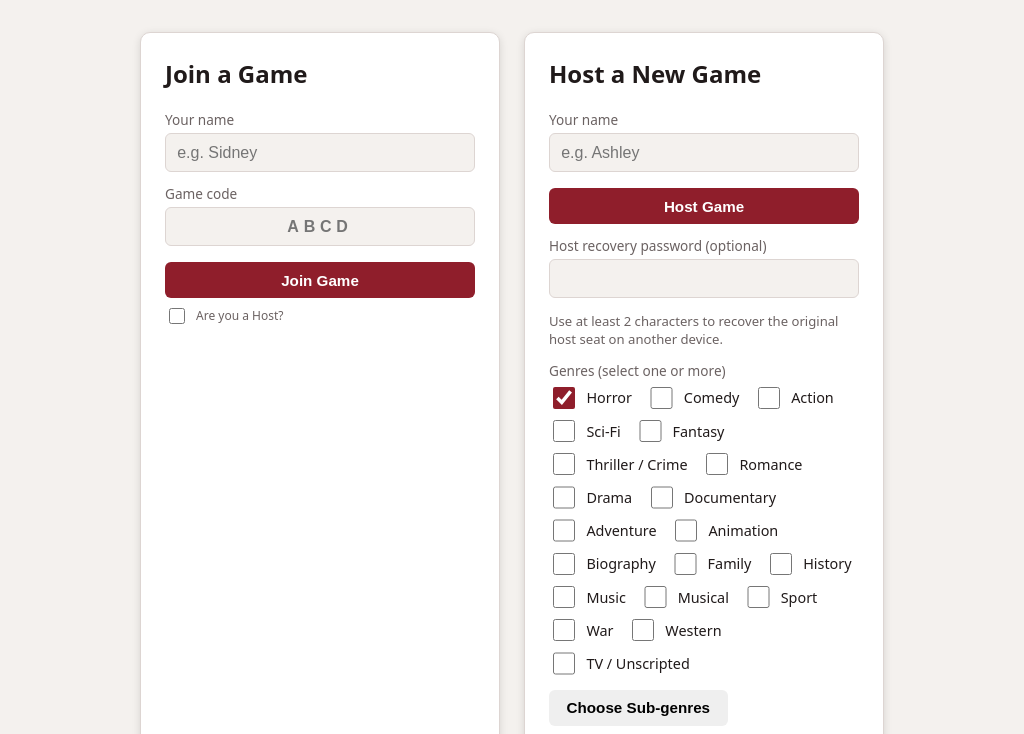
it: Landing › lets a host supply their missing name in the setup modal
Step 1. Click the button "Host Game" → (704, 206), box [549,188,859,224]
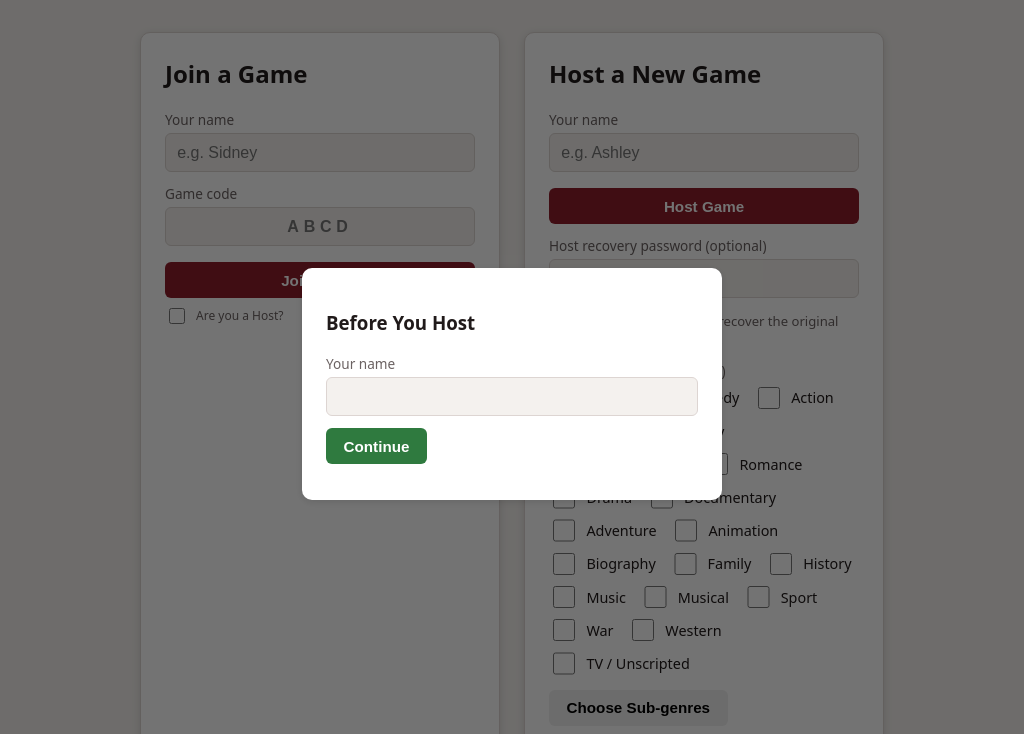
Step 2. Type "Ashley" into the field with id "modal-host-name" → (512, 397), box [326,377,698,416]
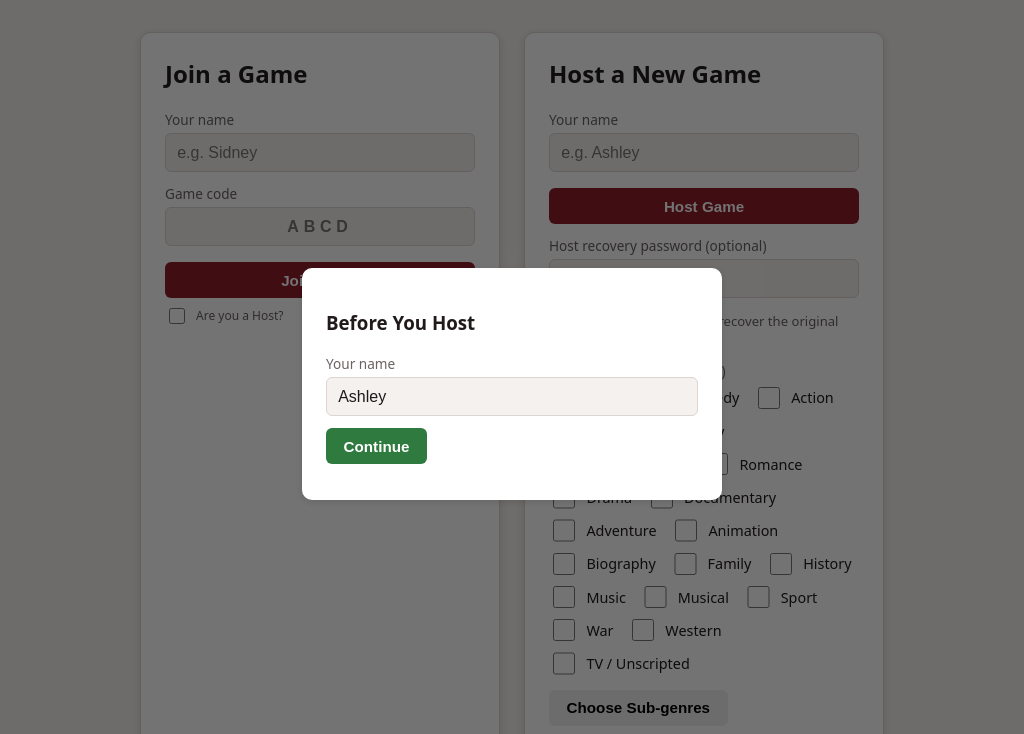
Step 3. Click the button "Continue" → (376, 446), box [326,428,427,464]
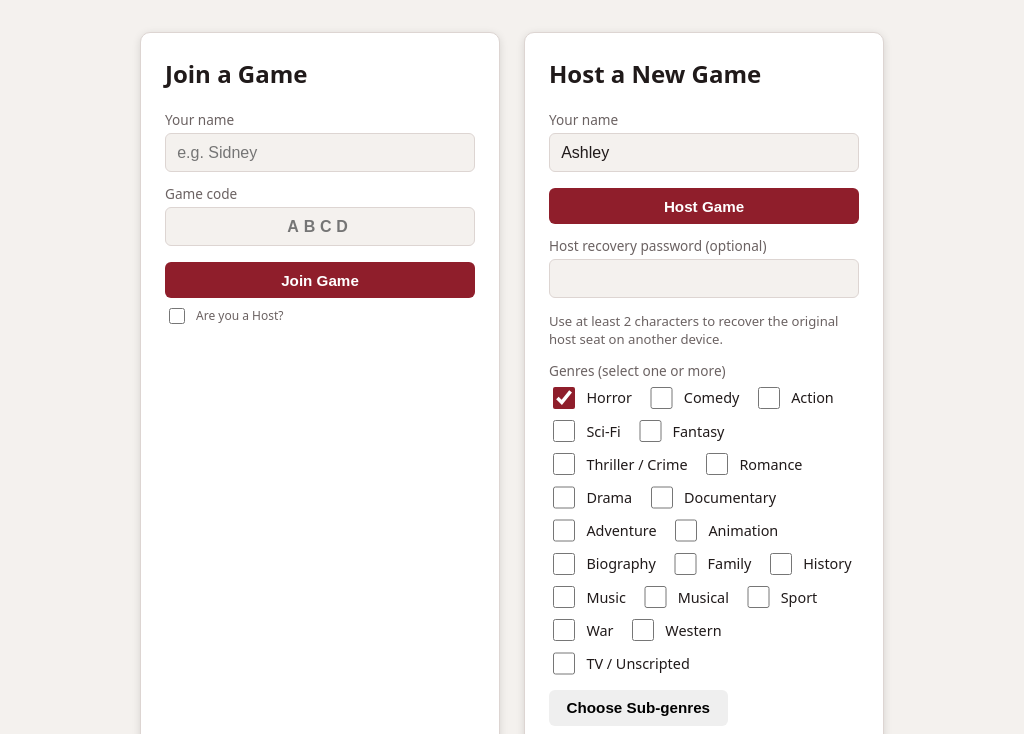
Result: the heading "Before You Host" is gone
